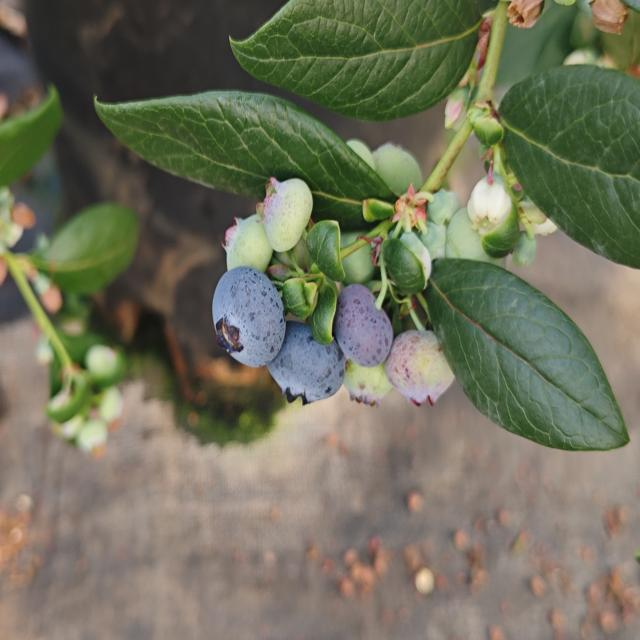ripe: (210, 264, 287, 371), (332, 281, 394, 371), (286, 328, 342, 410)
